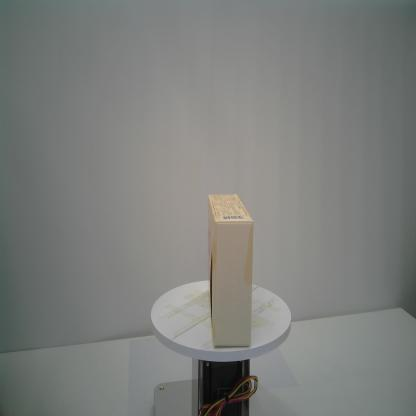Dessert: (207, 193, 254, 348)
